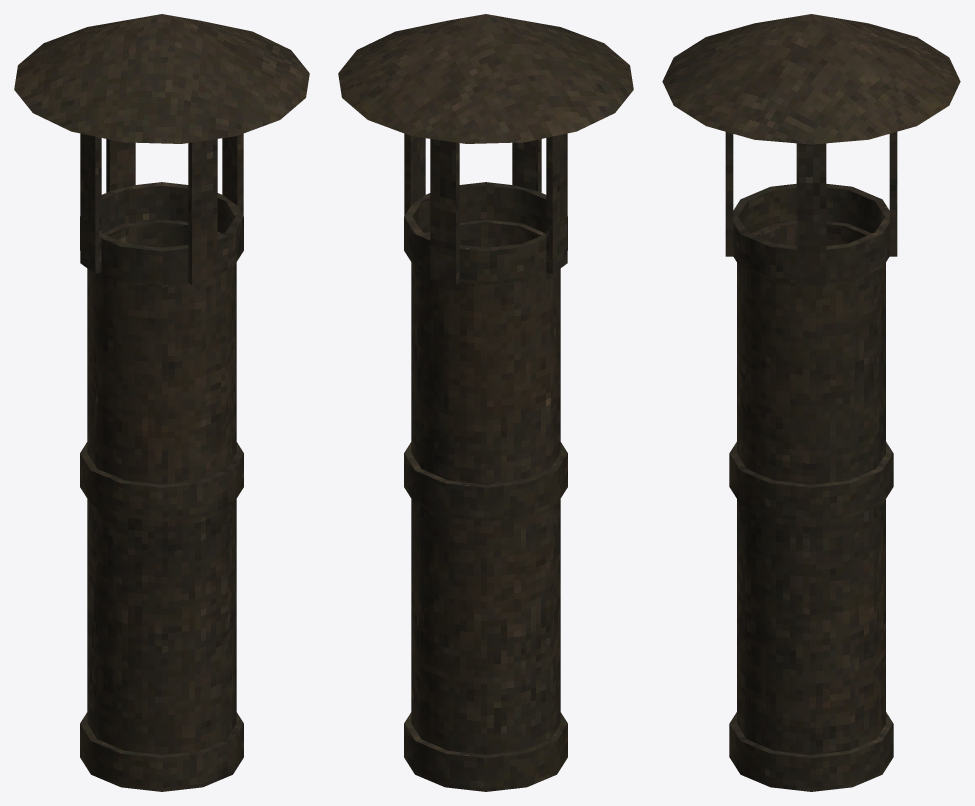
File: chimney_a_1_1.glb
The picture shows the model from 3 angles, left to right: view 1: azimuth 30°, elevation 25°; view 2: azimuth 150°, elevation 25°; view 3: azimuth 270°, elevation 25°; orthographic projection.
Parts seen in each view (by area): view 1: chimney_a_1_1; view 2: chimney_a_1_1; view 3: chimney_a_1_1.
Boxes of the visible parts, bbox=[...] form: chimney_a_1_1: bbox=[14, 14, 309, 791]; chimney_a_1_1: bbox=[338, 14, 633, 791]; chimney_a_1_1: bbox=[662, 14, 960, 791].
Size of the model in its own units: 0.4 by 1.1 by 0.4.
1 material, 1 textured.
